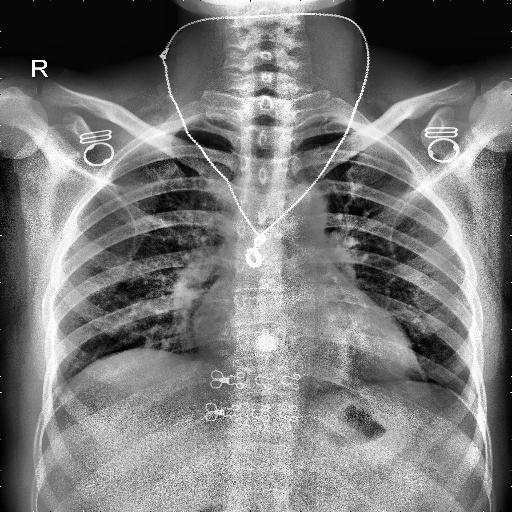0- Aortic enlargement: (267, 179, 328, 237)
3- Cardiomegaly: (194, 302, 418, 388), (192, 305, 418, 385), (190, 300, 413, 378)
